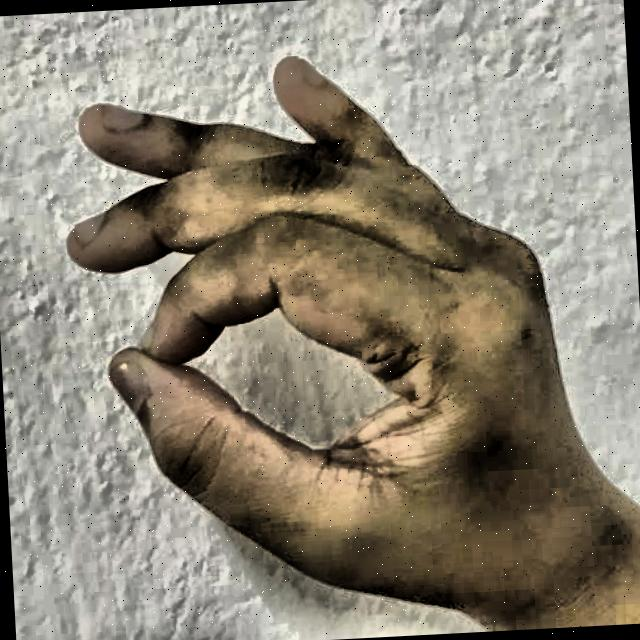Yo: (42, 13, 618, 640)
